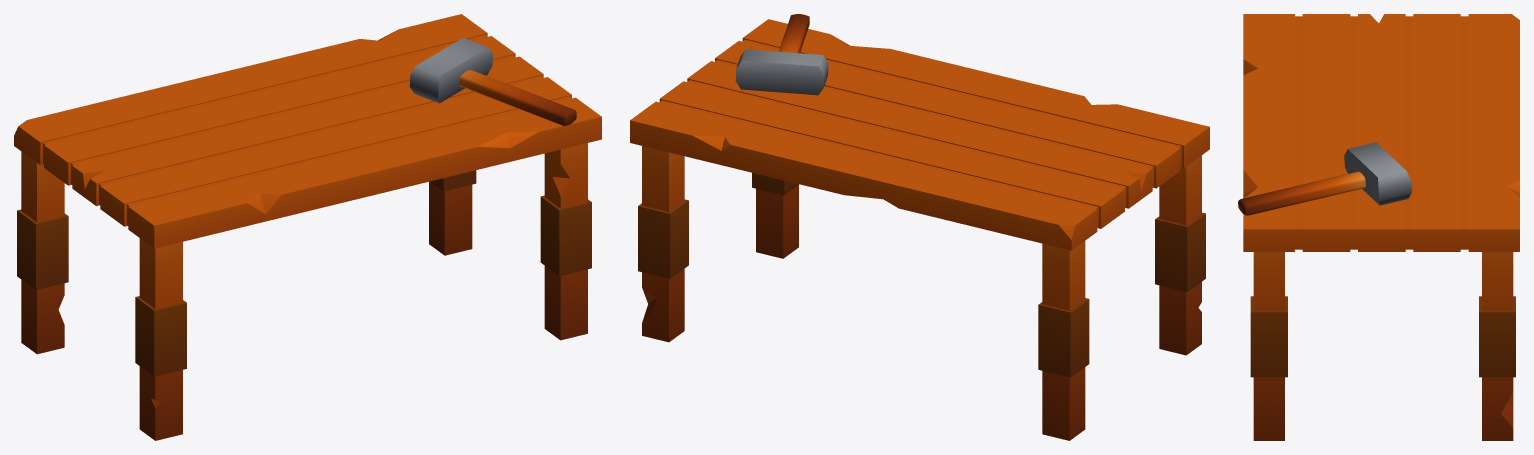
Rendered from CraftingTable.fbx.
3 renders of one model, left to right at view 1: azimuth 30°, elevation 25°; view 2: azimuth 150°, elevation 25°; view 3: azimuth 270°, elevation 25°, orthographic.
Parts seen in each view (by area): view 1: Plane.003; view 2: Plane.003; view 3: Plane.003.
Boxes of the visible parts, <box> form: Plane.003: <box>14,14,601,440</box>; Plane.003: <box>630,14,1209,440</box>; Plane.003: <box>1238,14,1519,440</box>.
Bounding box in the file's own units: 1011 × 542 × 560.
